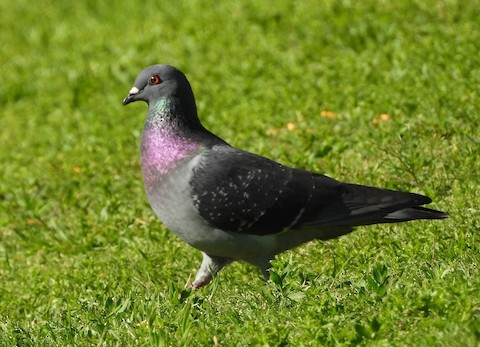pigeon: (116, 60, 453, 294)
